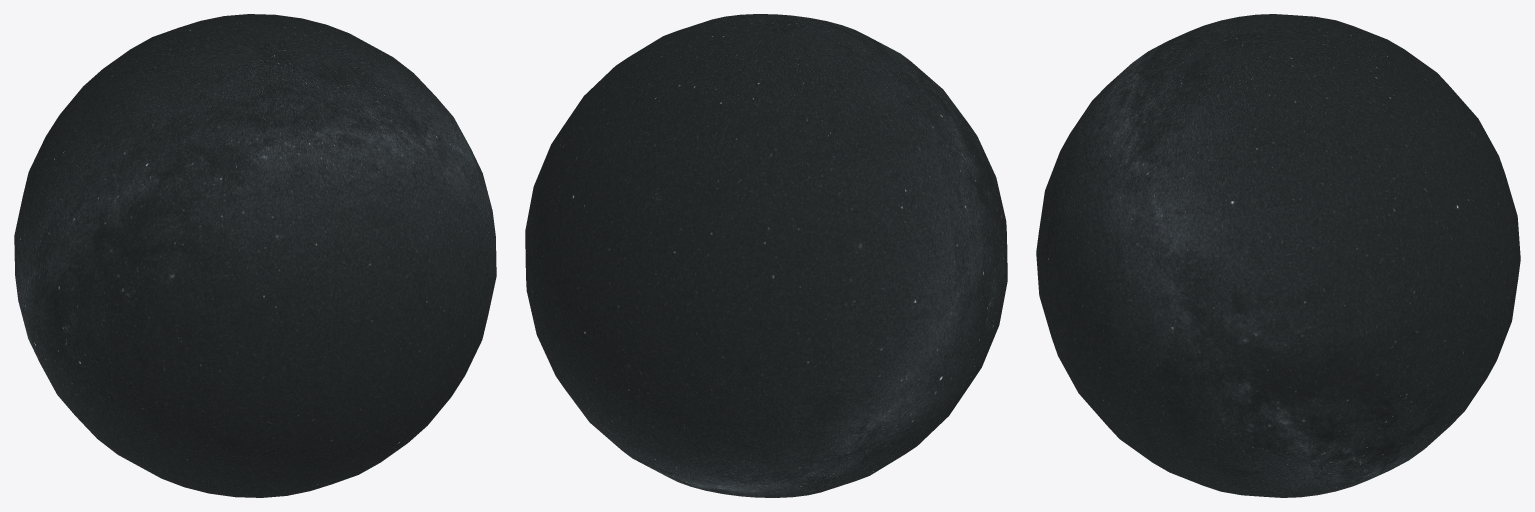
File: Fall.glb
3 renders of one model, left to right at view 1: azimuth 30°, elevation 25°; view 2: azimuth 150°, elevation 25°; view 3: azimuth 270°, elevation 25°, orthographic.
Parts seen in each view (by area): view 1: Sphere.002; view 2: Sphere.002; view 3: Sphere.002.
Boxes of the visible parts, box(x1,y1,x2,y2) form: Sphere.002: box(14, 14, 496, 497); Sphere.002: box(525, 14, 1007, 497); Sphere.002: box(1036, 14, 1520, 497).
Bounding box in the file's own units: 88.95 × 88.98 × 88.9.
Materials: 4 (4 with a texture image).
